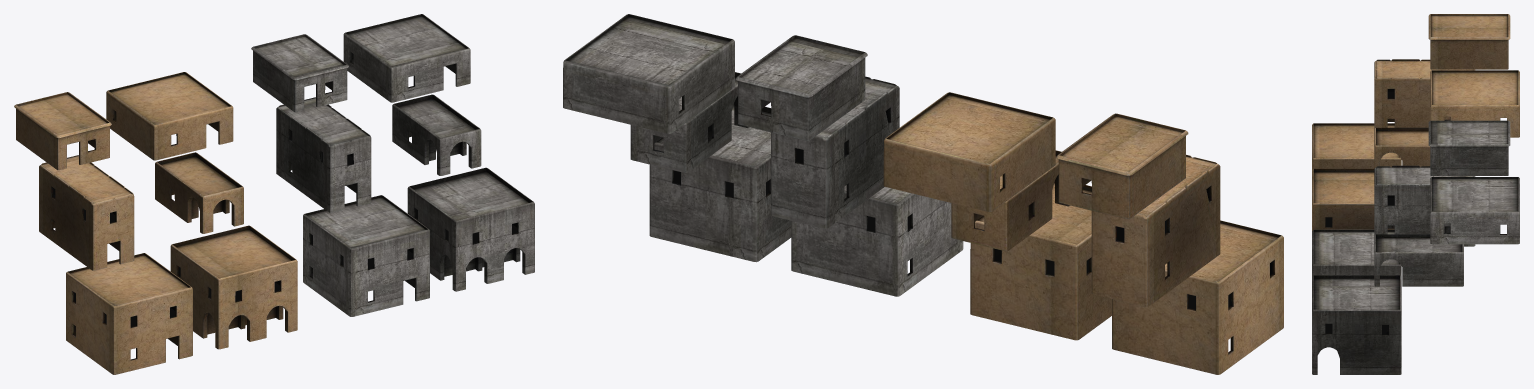
File: prop_village.glb
The picture shows the model from 3 angles, left to right: view 1: azimuth 30°, elevation 25°; view 2: azimuth 150°, elevation 25°; view 3: azimuth 270°, elevation 25°; orthographic projection. The views are drawn at different scales.
Visible parts, largest first — view 1: Concrete House_003, Desert House_001, Concrete House_001, Desert House_006, Desert House_002, Concrete House_002, Desert House_003, Concrete House_004, Concrete House_005, Desert House_004, Concrete House_006, Desert House_005; view 2: Desert House_001, Desert House_003, Concrete House_004, Concrete House_001, Desert House_006, Desert House_002, Concrete House_003, Concrete House_002, Desert House_004, Concrete House_005, Desert House_005, Concrete House_006; view 3: Concrete House_001, Concrete House_004, Desert House_003, Concrete House_005, Desert House_004, Concrete House_002, Desert House_002, Desert House_006, Concrete House_006, Concrete House_003, Desert House_001, Desert House_005.
Boxes of the visible parts, x1,y1,x2,y2 form: Concrete House_003: (303, 195, 429, 316); Desert House_001: (66, 253, 192, 374); Concrete House_001: (407, 167, 534, 291); Desert House_006: (170, 225, 297, 349); Desert House_002: (39, 155, 134, 270); Concrete House_002: (276, 97, 371, 212); Desert House_003: (106, 72, 233, 160); Concrete House_004: (343, 14, 470, 102); Concrete House_005: (251, 34, 348, 112); Desert House_004: (14, 92, 111, 170); Concrete House_006: (392, 94, 481, 175); Desert House_005: (155, 152, 243, 233); Desert House_001: (1112, 220, 1283, 374); Desert House_003: (883, 92, 1055, 211); Concrete House_004: (563, 14, 734, 133); Concrete House_001: (649, 103, 791, 262); Desert House_006: (970, 181, 1111, 340); Desert House_002: (1091, 154, 1220, 306); Concrete House_003: (791, 185, 963, 296); Concrete House_002: (771, 76, 899, 228); Desert House_004: (1056, 113, 1188, 219); Concrete House_005: (735, 35, 867, 140); Desert House_005: (951, 150, 1070, 251); Concrete House_006: (630, 72, 749, 172); Concrete House_001: (1312, 275, 1401, 374); Concrete House_004: (1430, 177, 1519, 244); Desert House_003: (1430, 70, 1519, 137); Concrete House_005: (1428, 120, 1510, 175); Desert House_004: (1428, 14, 1510, 69); Concrete House_002: (1374, 165, 1475, 246); Desert House_002: (1374, 59, 1474, 128); Desert House_006: (1312, 168, 1394, 230); Concrete House_006: (1374, 234, 1463, 286); Concrete House_003: (1312, 229, 1401, 276); Desert House_001: (1312, 123, 1401, 169); Desert House_005: (1374, 127, 1430, 168).
Bounding box in the file's own units: 42.58 × 18.38 × 19.73.
Materials: 2 (2 with a texture image).
